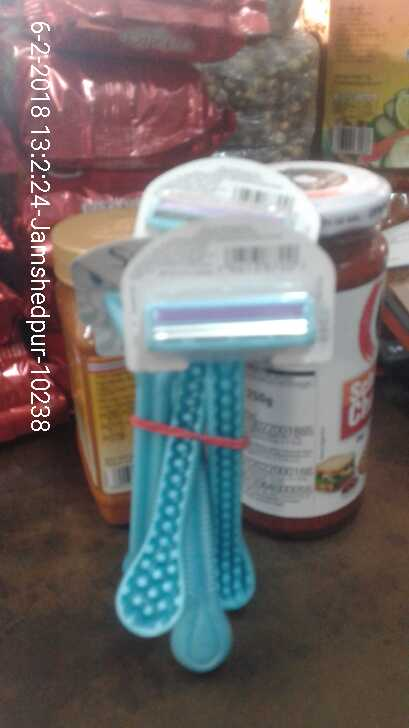reject: (95, 180, 213, 260)
